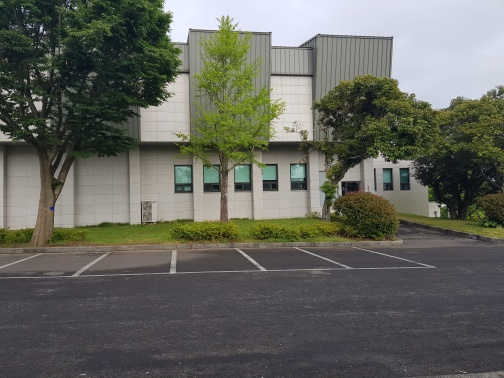Gym: (59, 29, 455, 232), (177, 27, 333, 233), (174, 141, 426, 222)
